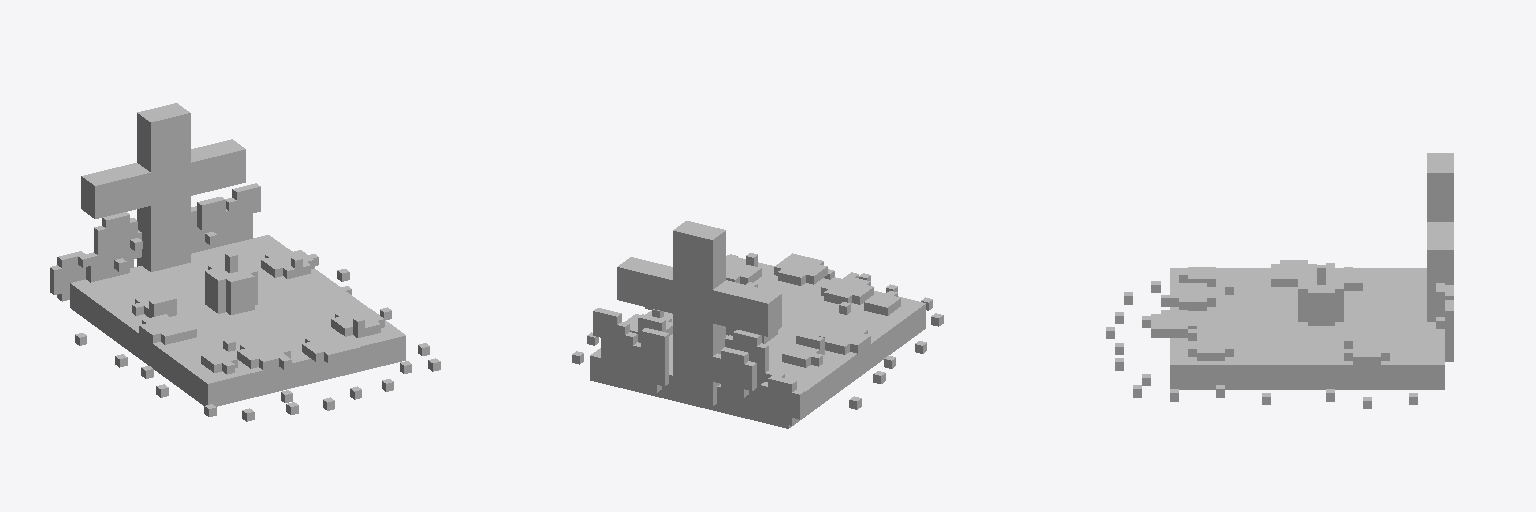
Rendered from tumba.obj.
The picture shows the model from 3 angles: view 1: azimuth 30°, elevation 25°; view 2: azimuth 150°, elevation 25°; view 3: azimuth 270°, elevation 25°; orthographic projection.
Parts seen in each view (by area): view 1: object 1; view 2: object 1; view 3: object 1.
Boxes of the visible parts, x1=… form: object 1: x1=50, y1=103, x2=440, y2=421; object 1: x1=572, y1=221, x2=943, y2=428; object 1: x1=1106, y1=153, x2=1453, y2=408.
Bounding box in the file's own units: 3.4 × 2.1 × 3.8.